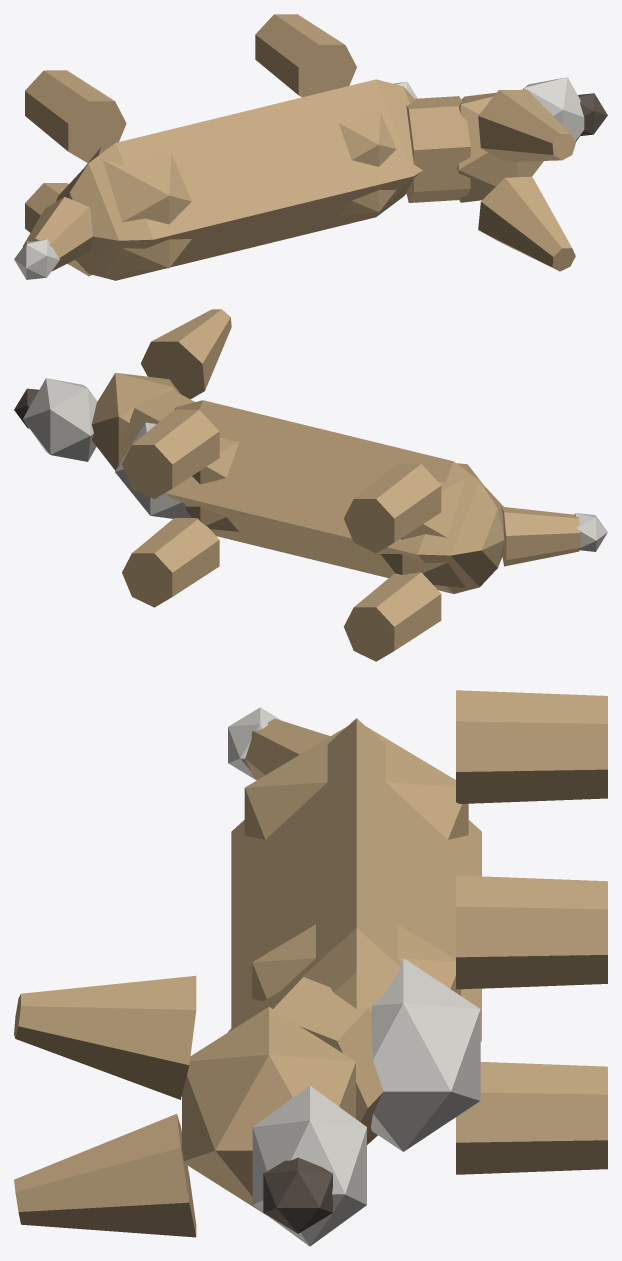
3 views of the same model, one above another, from view 1: azimuth 30°, elevation 25°; view 2: azimuth 150°, elevation 25°; view 3: azimuth 270°, elevation 25° (orthographic). The views are drawn at different scales.
Visible parts, largest first — view 1: part0, part1, part14, part12, part4, part7, part6, part5, part2, part10, part8, part11 (+2 smaller); view 2: part0, part14, part12, part13, part15, part6, part8, part10, part5, part1, part2, part4 (+2 smaller); view 3: part0, part5, part12, part14, part3, part13, part6, part7, part8, part1, part4, part2 (+3 smaller).
Part boxes in pixels (left/top/right/bottom): part0: left=56, top=79, right=422, bottom=280; part1: left=84, top=144, right=191, bottom=274; part14: left=25, top=70, right=126, bottom=162; part12: left=255, top=14, right=356, bottom=97; part4: left=406, top=96, right=470, bottom=202; part7: left=478, top=176, right=575, bottom=271; part6: left=478, top=89, right=575, bottom=162; part5: left=456, top=92, right=543, bottom=202; part2: left=338, top=112, right=396, bottom=215; part10: left=23, top=197, right=92, bottom=271; part8: left=523, top=77, right=584, bottom=142; part11: left=14, top=239, right=59, bottom=279; part0: left=165, top=400, right=504, bottom=593; part14: left=343, top=463, right=441, bottom=553; part12: left=122, top=409, right=219, bottom=499; part13: left=122, top=518, right=219, bottom=607; part15: left=343, top=572, right=441, bottom=661; part6: left=141, top=309, right=231, bottom=399; part8: left=23, top=378, right=97, bottom=461; part10: left=501, top=506, right=580, bottom=566; part5: left=91, top=372, right=180, bottom=470; part1: left=380, top=463, right=482, bottom=587; part2: left=185, top=437, right=238, bottom=531; part4: left=119, top=389, right=194, bottom=457; part0: left=231, top=718, right=481, bottom=1144; part5: left=182, top=1007, right=355, bottom=1215; part12: left=456, top=875, right=607, bottom=989; part14: left=456, top=690, right=607, bottom=803; part3: left=371, top=959, right=480, bottom=1151; part13: left=456, top=1062, right=607, bottom=1174; part6: left=14, top=975, right=196, bottom=1099; part7: left=14, top=1114, right=196, bottom=1237; part8: left=252, top=1085, right=366, bottom=1246; part1: left=244, top=726, right=468, bottom=839; part4: left=227, top=977, right=383, bottom=1133; part2: left=252, top=924, right=460, bottom=1001.
Bounding box in the file's own units: 3.86 × 1.09 × 2.03.
